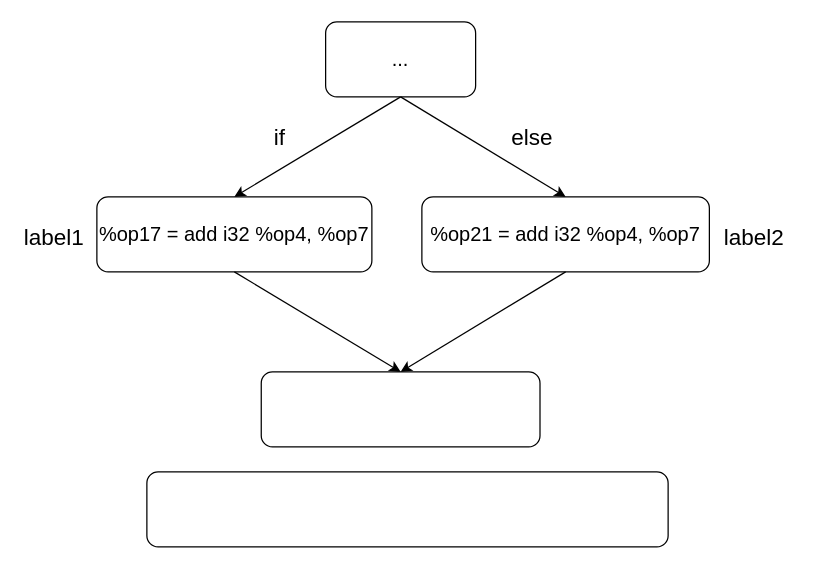
The diagram is 818 pixels wide and 569 high, and some of its shapes have lost their labels. The box of each missing label's shape, as (x1, y1, x2, y2) in pixels:
%op28 = add i32 %op4, %op7: (260, 371, 540, 447)
%op28 = phi i32 [%op17, %label1], [%op21, %label2]: (146, 471, 668, 547)
